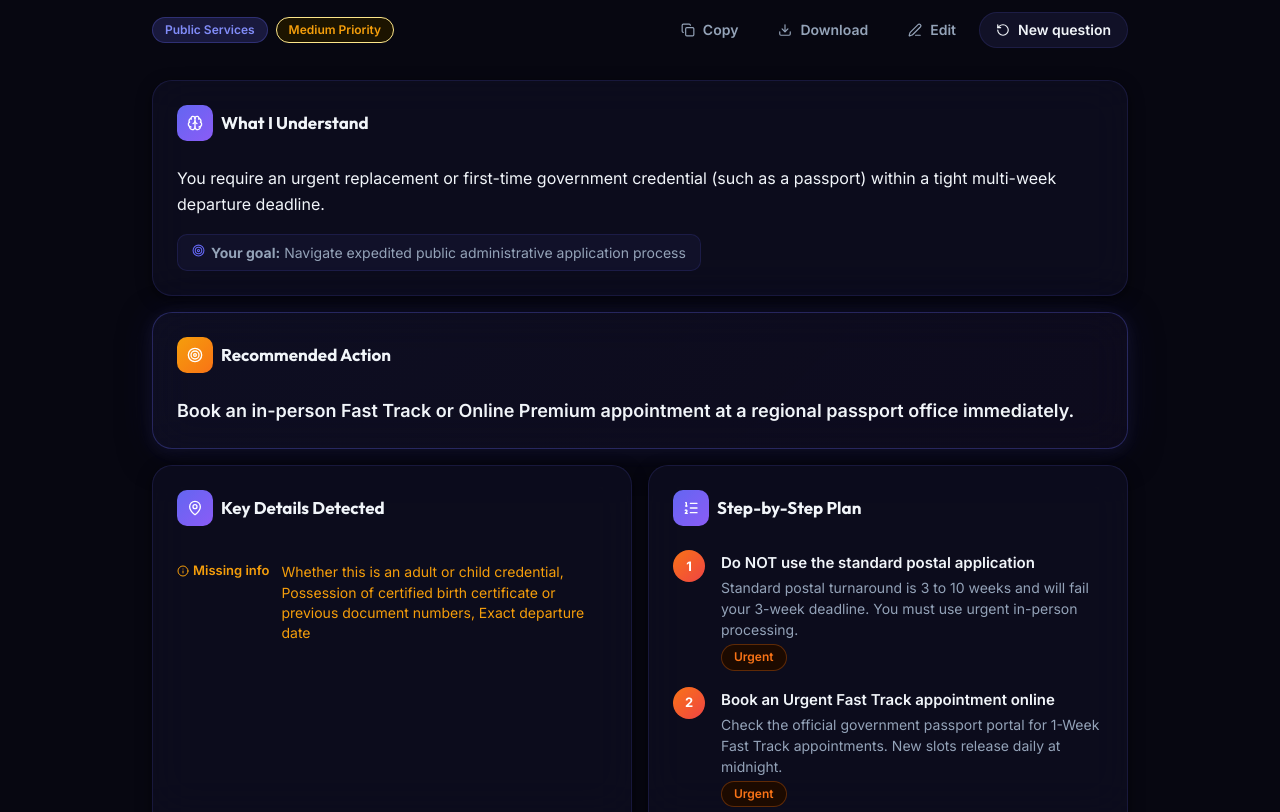
Scenario: ResultsDashboard — Copy Result button › shows "Copy failed" when clipboard API is absent and execCommand returns false
What coordinates should you click on to do the following:
click the button with aria-label "Copy result to clipboard"
I would click on:
 (710, 30)
Its box is [664, 12, 755, 48].
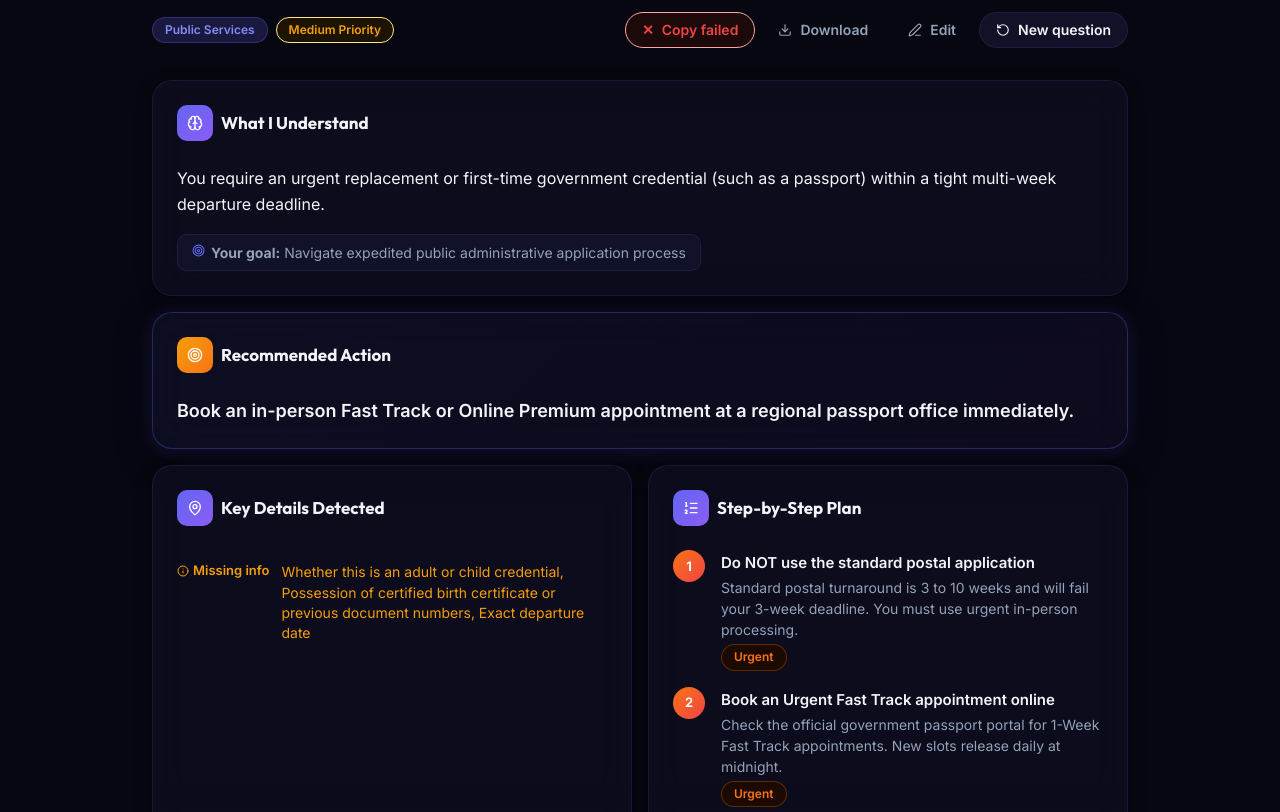
Result: the button "✕ Copy failed" is shown at [625, 12, 755, 48]
